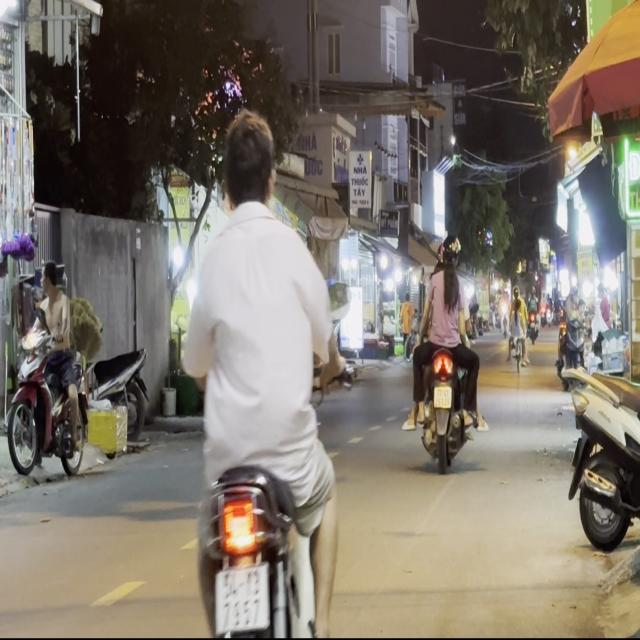helmet: (440, 232, 460, 268)
licenseplate: (178, 109, 352, 632), (556, 237, 640, 554), (4, 256, 93, 485), (406, 230, 483, 470)
motorcyclist: (219, 111, 276, 217), (40, 259, 60, 297)
nohelmet: (215, 564, 268, 630), (434, 385, 452, 407)
